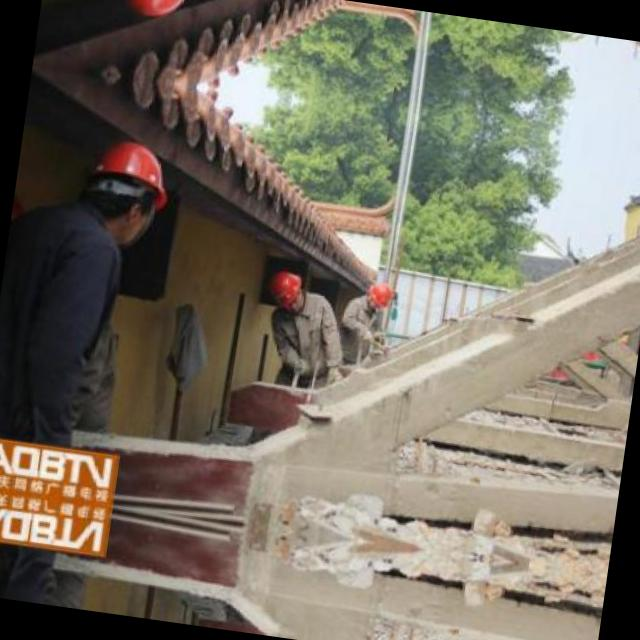helmet: (74, 133, 174, 246), (104, 0, 198, 25), (264, 266, 308, 312), (363, 278, 396, 314)
